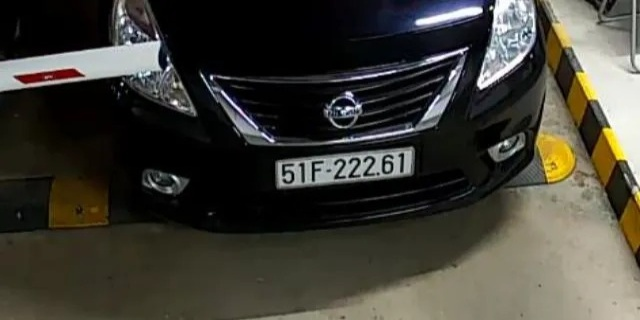bien_so: (278, 152, 412, 186)
